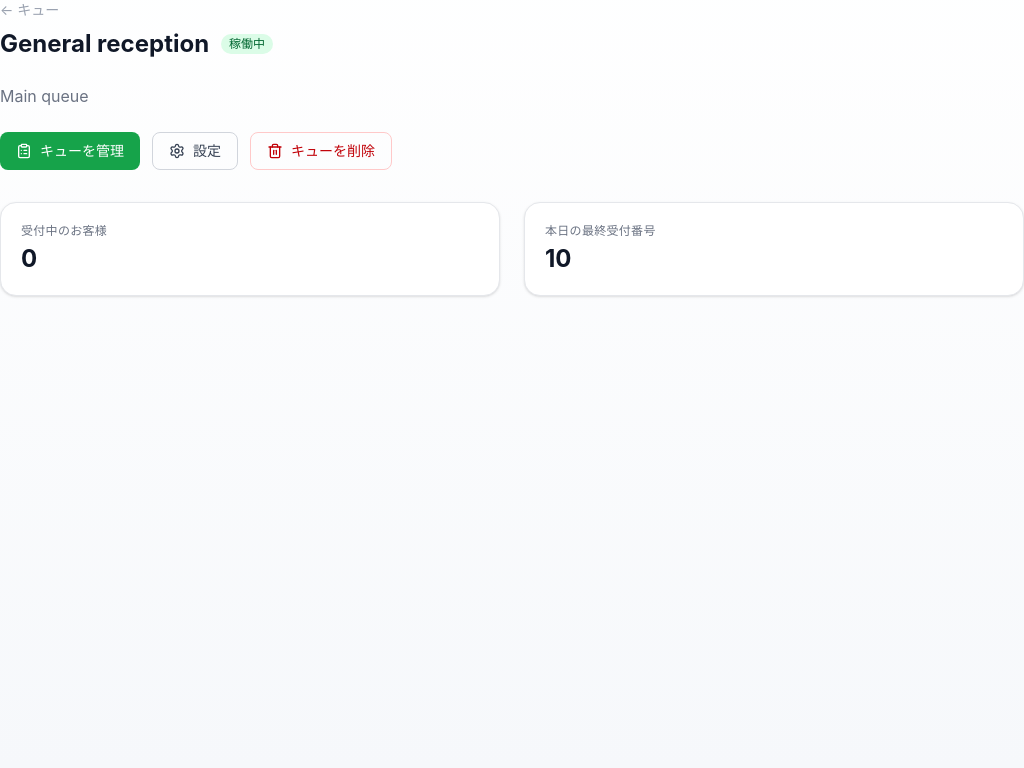
Scenario: QueueDetailPage deletion › shows a localized conflict when active tickets or Staff still depend on the queue
This screenshot has width=1024, height=768.
Click the button "キューを削除": (321, 151) [250,132,392,170]
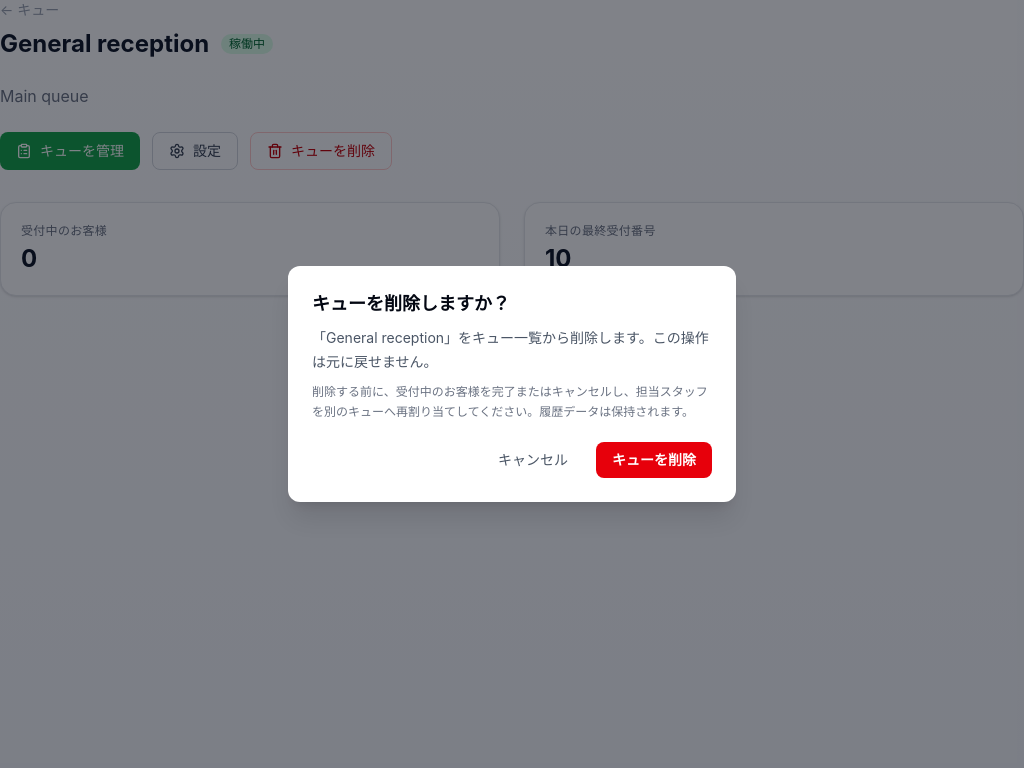
Click the button "キューを削除": (654, 460) [596,442,712,478]
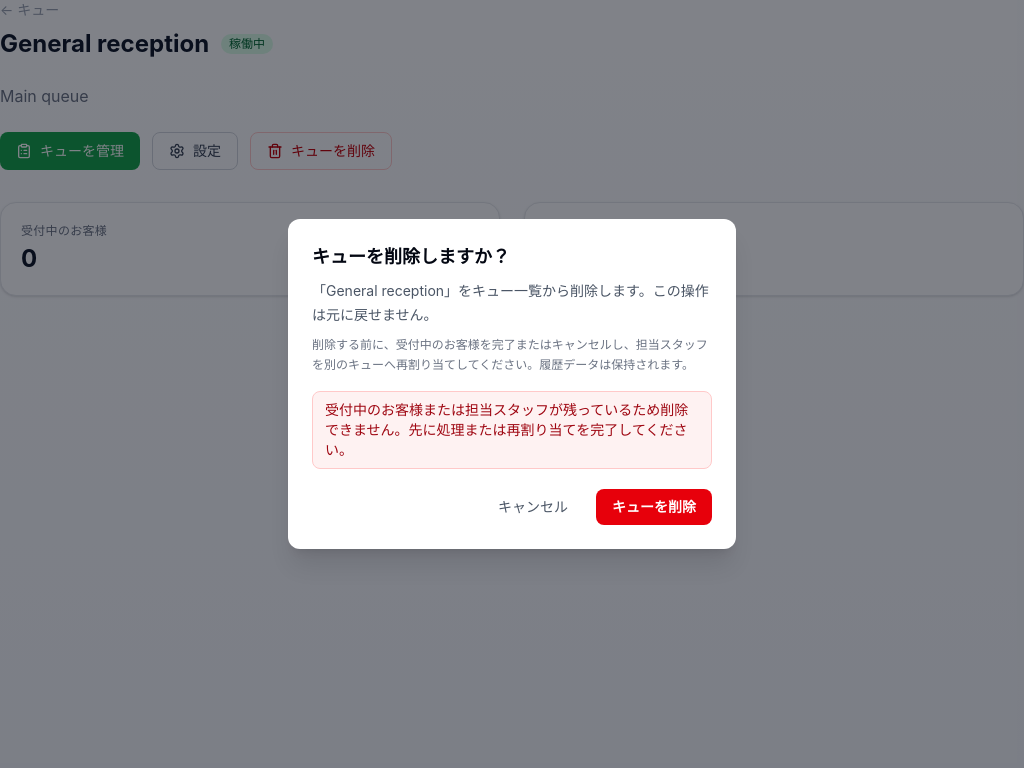
Now the message reads "受付中のお客様または担当スタッフが残っているため削除できません。先に処理または再割り当てを完了してください。", box [325,401,688,458]
